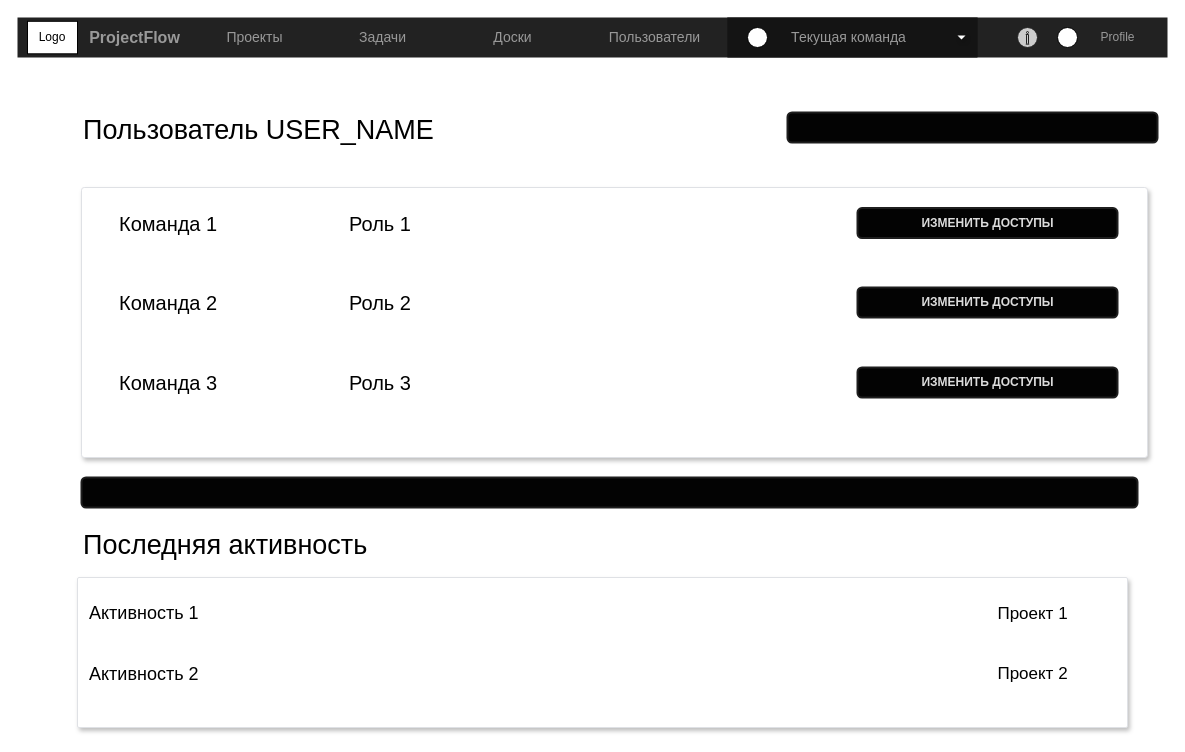
Image size: 1185x752. Some labels were removed from this diagram. The centre of each missing label's shape, as x and y in pixels:
ДОБАВИТЬ В КОМАНДУ: pixel 609 492
ЗАБЛОКИРОВАТЬ: pixel 972 127
